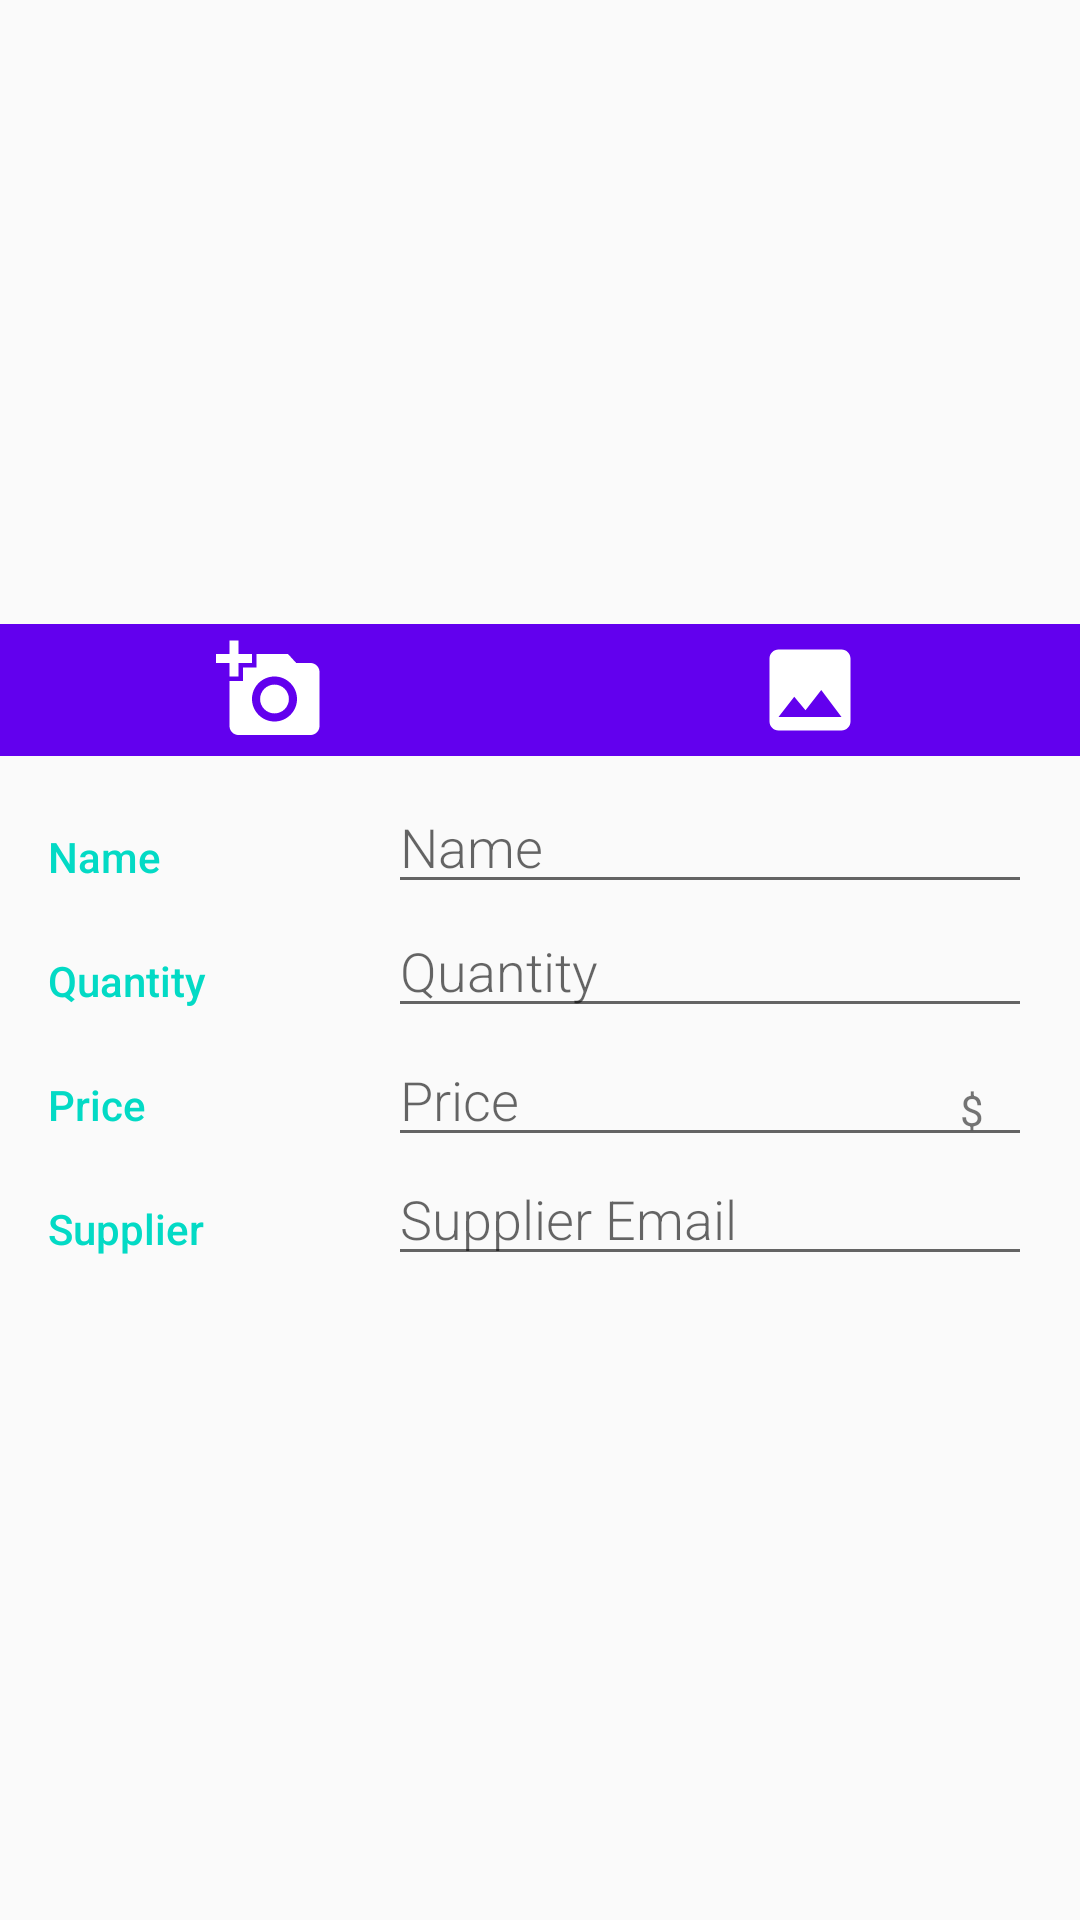

Icons on this 1080 × 1920 Android screen, each with the point to tap as (x,y):
camera: (268,687)
gallery: (810,690)
